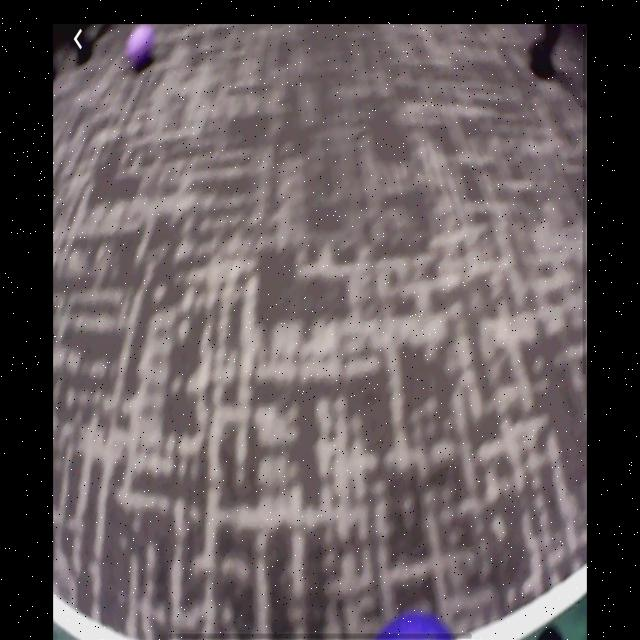ball: (377, 606, 455, 640), (126, 27, 157, 73)
